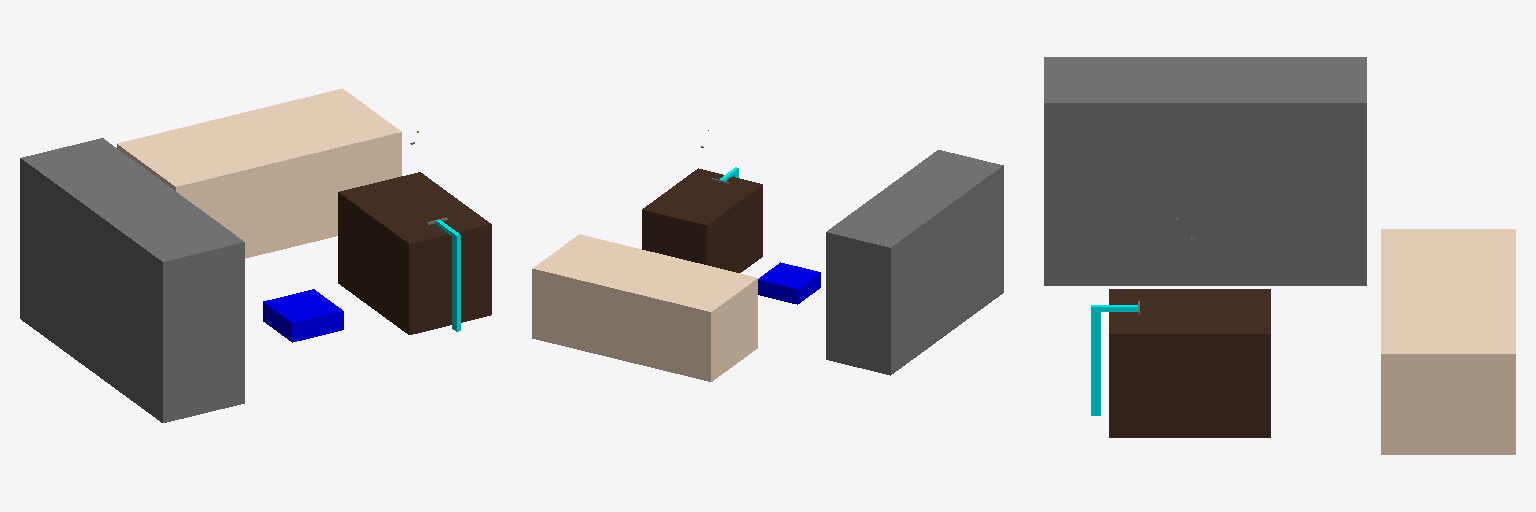
robot.urdf — my_robot_description:
<?xml version="1.0" ?><!-- =================================================================================== --><!-- |    This document was autogenerated by xacro from [local-path]/temp_ws/install/cell_envir/share/cell_envir/config/my_robot_description.urdf.xacro | --><!-- |    EDITING THIS FILE BY HAND IS NOT RECOMMENDED                                 | --><!-- =================================================================================== --><robot name="my_robot_description"><link name="robot_base"><visual><origin rpy="0 0 0" xyz="0 0 0.0"/><geometry><box size="0.5 0.5 0.18"/></geometry><material name="Cyan"><color rgba="0 0.0 1.0 1.0"/></material></visual><collision><origin rpy="0 0 0" xyz="0 0 0"/><geometry><box size="0.5 0.5 0.18"/></geometry></collision><inertial><inertia ixx="0.047066666666666666" ixy="0" ixz="0" iyy="0.047066666666666666" iyz="0" izz="0.08333333333333333"/><mass value="0.002"/></inertial></link><link name="table_soudage"><visual><origin rpy="0 0 0" xyz="0.0 0.0 0.425"/><geometry><box size="0.8 1.2  0.85"/></geometry><material name="metal"><color rgba="0.3 0.21 0.16 1.0"/></material></visual><collision><origin rpy="0 0 0" xyz="0.0 0.0 0.425"/><geometry><box size="0.8 1.2  0.85"/></geometry></collision><inertial><inertia ixx="0.09010416666666665" ixy="0" ixz="0" iyy="0.05677083333333333" iyz="0" izz="0.08666666666666667"/><mass value="0.0005"/></inertial></link><link name="controleur"><inertial><inertia ixx="0.6675" ixy="0" ixz="0" iyy="0.24083333333333334" iyz="0" izz="0.5333333333333333"/><mass value="0.001"/></inertial><visual><origin rpy="0 0 0" xyz="-0.4 0.0 0.75"/><geometry><box size="0.8 2.4 1.5"/></geometry><material name="gray"><color rgba="0.5 0.5 0.5 1.0"/></material></visual><collision><origin rpy="0 0 0" xyz="-0.4 0.0 0.75"/><geometry><box size="0.8 2.4 1.5"/></geometry></collision></link><link name="table"><inertial><inertia ixx="0.14101866666666665" ixy="0" ixz="0" iyy="0.46101866666666674" iyz="0" izz="0.48666666666666675"/><mass value="0.001"/></inertial><visual><origin rpy="0 0 0" xyz="1.1 0.5 0.4115"/><geometry><box size="2.2 1.0 0.823"/></geometry><material name="wood"><color rgba="1 0.9 0.8 1.0"/></material></visual><collision><origin rpy="0 0 0" xyz="1.1 0.5 0.4115"/><geometry><box size="2.2 1.0 0.823"/></geometry></collision></link><link name="arm_1"><visual><origin rpy="0 0 0" xyz="0 0 0"/><geometry><box size="0.04 0.08 0.86"/></geometry><material name="Cyan"><color rgba="0 1.0 1.0 1.0"/></material></visual><collision><origin rpy="0 0 0" xyz="0 0 0"/><geometry><box size="0.04 0.08 0.86"/></geometry></collision><inertial><inertia ixx="0.031083333333333327" ixy="0" ixz="0" iyy="0.030883333333333332" iyz="0" izz="0.0003333333333333333"/><mass value="0.0005"/></inertial></link><link name="arm_2"><visual><origin rpy="1.5708 0 0" xyz="0 0 -0.175"/><geometry><box size="0.04 0.04 0.35"/></geometry><material name="Cyan"><color rgba="0 1.0 1.0 1.0"/></material></visual><collision><origin rpy="1.5708 0 0" xyz="0 0 -0.175"/><geometry><box size="0.04 0.04 0.35"/></geometry></collision><inertial><inertia ixx="0.002068333333333333" ixy="0" ixz="0" iyy="0.002068333333333333" iyz="0" izz="5.333333333333334e-05"/><mass value="0.0002"/></inertial></link><!-- <link name="piece">
    <visual>
      <origin xyz="0.040 0.084 0" rpy="-1.5707896 0 0" />
      <geometry>
        <mesh filename="file:///$(find cell_envir)/urdf/piece_description/Part1V3.stl" scale="0.001 0.001 0.001" />
      </geometry>
      <material name="Cyan">
        <color rgba="0 0.0 1.0 1.0"/>
      </material>
    </visual>
    <inertial>
        <xacro:box_inertia m="0.2" x="0.4" y="0.4" z="0.1"/>
     </inertial>
  </link> --><joint name="joint_base_world" type="fixed"><origin rpy="0.0 0.0 0.0" xyz="0.0 0.0 0.09"/><parent link="world"/><child link="robot_base"/></joint><joint name="joint_controleur" type="fixed"><origin rpy="0.0 0.0 0.0" xyz="-1.2 0.1 0.0"/><parent link="world"/><child link="controleur"/></joint><joint name="joint_table" type="fixed"><origin rpy="0.0 0.0 0.0" xyz="-0.430 1.4 0"/><parent link="world"/><child link="table"/></joint><joint name="joint_table_soudage" type="fixed"><origin rpy="0.0 0.0 0.0" xyz="1.075718 -0.017824 0.0"/><parent link="world"/><child link="table_soudage"/></joint><joint name="joint_arm1" type="fixed"><origin rpy="0.0 0.0 0.0" xyz="1.075718 -0.717824 0.43"/><parent link="world"/><child link="arm_1"/></joint><joint name="joint_arm1_arm2" type="fixed"><origin rpy="0.0 0.0 0.0" xyz="0.0 0.135 0.62"/><parent link="arm_1"/><child link="arm_2"/></joint><!-- <joint name="joint_piece_world" type="fixed">
      <origin xyz="1.075718 0.25 0.86" rpy="0.0 0.0 0.0"/>
      <parent link="world"/>
      <child link="piece"/>
    </joint> --><material name="Ensenso/Blue"><color rgba="0.1 0.1 1.0 1.0"/></material><material name="Ensenso/Black"><color rgba="0.0 0.0 0.0 1.0"/></material><!-- Define the links --><link name="custom_gripper_base"><visual><geometry><box size="0.2 0.02 0.02"/></geometry><origin rpy="0 0 0" xyz="0 0 0"/><material name="grey"><color rgba="0.5 0.5 0.5 1"/></material></visual><collision><geometry><box size="0.2 0.02 0.02"/></geometry><origin rpy="0 0 0" xyz="0 0 0"/></collision><inertial><inertia ixx="1.3333333333333335e-05" ixy="0" ixz="0" iyy="0.0006733333333333335" iyz="0" izz="0.0006733333333333335"/><mass value="0.2"/></inertial></link><!-- <xacro:macro name="prismatic_joint" params="name parent child x_pos y_pos rotation lower_lim upper_lim">
    <joint name="${name}" type="prismatic">
      <parent link="${parent}"/>
      <child link="${child}"/>
      <origin rpy="0 0 ${rotation}" xyz="${x_pos} ${y_pos} 0"/>
      <axis xyz="0 1 0"/>
      <limit lower="${lower_lim}" upper="${upper_lim}" effort="100" velocity="0.1"/>
    </joint>
  </xacro:macro> --><!--
  <xacro:finger name="left_finger" x_pos="-0.05" size_x="0.1" size_y="0.02" size_z="0.02"/>
  <xacro:finger name="right_finger" x_pos="0.05" size_x="0.1" size_y="0.02" size_z="0.02"/>

  <xacro:prismatic_joint name="left_finger_joint" parent="custom_gripper_base" child="left_finger" rotation="-1.570796" x_pos="-0.1" y_pos="0.01" lower_lim="0.01" upper_lim="0.09"/>
  <xacro:prismatic_joint name="right_finger_joint" parent="custom_gripper_base" child="right_finger" rotation="1.570796" x_pos="0.1" y_pos="0.01" lower_lim="0.01" upper_lim="0.09"/>
--><joint name="camera_optical_joint" type="fixed"><parent link="link_6_t"/><child link="camera_link_optical"/><origin rpy="1.5708 3.14159 1.5708" xyz="0.26 -0.11 0.155"/></joint><joint name="camera_joint" type="fixed"><parent link="camera_link_optical"/><child link="camera_link"/><origin rpy="0 -1.5708 1.5708" xyz="0.0 0.0 0.0"/></joint><link name="camera_link_optical"/><link name="camera_link"><origin rpy="0 0 0" xyz="0 0 0"/><visual><geometry><box size="0.01 0.01 0.01"/></geometry><material name="red"/></visual><collision><origin rpy="0 0 0" xyz="0 0 0"/><geometry><box size="0.01 0.01 0.01"/></geometry></collision><inertial><inertia ixx="3.333333333333334e-07" ixy="0" ixz="0" iyy="3.333333333333334e-07" iyz="0" izz="3.333333333333334e-07"/><mass value="2e-05"/></inertial></link><gazebo reference="camera_link"><material>Gazebo/Red</material><sensor name="my_depth_camera" type="depth"><always_on>true</always_on><visualize>false</visualize><update_rate>5</update_rate><camera name="camera"><horizontal_fov>1.02974</horizontal_fov><image><width>640</width><height>480</height><format>R8G8B8</format></image><clip><near>0.02</near><far>1</far></clip><noise><type>gaussian</type><!-- Noise is sampled independently per pixel on each frame.
                            That pixel's noise value is added to each of its color
                            channels, which at that point lie in the range [0,1]. --><mean>0.0</mean><stddev>0.007</stddev></noise></camera><plugin filename="libgazebo_ros_camera.so" name="depth_camera_controller"><camera_name>my_depth_camera</camera_name><frame_name> camera_link_optical</frame_name><hack_baseline>0</hack_baseline><min_depth>0.01</min_depth><min_depth>0.5</min_depth></plugin></sensor></gazebo><!-- link list --><link name="base_link"><visual><geometry><mesh filename="file:///[local-path]/cogniman_ws/install/cell_envir/share/cell_envir/urdf/motoman_mh12_support/meshes/visual/mh12_base_link.stl"/></geometry><material name=""><color rgba="0.12941176470588237 0.14901960784313725 0.7490196078431373 1.0"/></material></visual><collision><geometry><mesh filename="file:///[local-path]/cogniman_ws/install/cell_envir/share/cell_envir/urdf/motoman_mh12_support/meshes/collision/mh12_base_link.stl"/></geometry></collision><inertial><inertia ixx="0.6499999999999999" ixy="0" ixz="0" iyy="0.6499999999999999" iyz="0" izz="1.2249999999999999"/><mass value="0.005"/></inertial></link><link name="link_1_s"><visual><geometry><mesh filename="file:///[local-path]/cogniman_ws/install/cell_envir/share/cell_envir/urdf/motoman_mh12_support/meshes/visual/mh12_link_1_s.stl"/></geometry><material name=""><color rgba="0.12941176470588237 0.14901960784313725 0.7490196078431373 1.0"/></material></visual><collision><geometry><mesh filename="file:///[local-path]/cogniman_ws/install/cell_envir/share/cell_envir/urdf/motoman_mh12_support/meshes/collision/mh12_link_1_s.stl"/></geometry></collision><inertial><inertia ixx="0.4624999999999999" ixy="0" ixz="0" iyy="0.4624999999999999" iyz="0" izz="0.625"/><mass value="0.005"/></inertial></link><link name="link_2_l"><visual><geometry><mesh filename="file:///[local-path]/cogniman_ws/install/cell_envir/share/cell_envir/urdf/motoman_mh12_support/meshes/visual/mh12_link_2_l.stl"/></geometry><material name=""><color rgba="0.12941176470588237 0.14901960784313725 0.7490196078431373 1.0"/></material></visual><collision><geometry><mesh filename="file:///[local-path]/cogniman_ws/install/cell_envir/share/cell_envir/urdf/motoman_mh12_support/meshes/collision/mh12_link_2_l.stl"/></geometry></collision><inertial><inertia ixx="0.7041666666666669" ixy="0" ixz="0" iyy="0.7041666666666669" iyz="0" izz="0.4"/><mass value="0.005"/></inertial></link><link name="link_3_u"><visual><geometry><mesh filename="file:///[local-path]/cogniman_ws/install/cell_envir/share/cell_envir/urdf/motoman_mh12_support/meshes/visual/mh12_link_3_u.stl"/></geometry><material name=""><color rgba="0.12941176470588237 0.14901960784313725 0.7490196078431373 1.0"/></material></visual><collision><geometry><mesh filename="file:///[local-path]/cogniman_ws/install/cell_envir/share/cell_envir/urdf/motoman_mh12_support/meshes/collision/mh12_link_3_u.stl"/></geometry></collision><inertial><inertia ixx="0.5541666666666666" ixy="0" ixz="0" iyy="0.5541666666666666" iyz="0" izz="0.8999999999999999"/><mass value="0.005"/></inertial></link><link name="link_4_r"><visual><geometry><mesh filename="file:///[local-path]/cogniman_ws/install/cell_envir/share/cell_envir/urdf/motoman_mh12_support/meshes/visual/mh12_link_4_r.stl"/></geometry><material name=""><color rgba="0.12941176470588237 0.14901960784313725 0.7490196078431373 1.0"/></material></visual><collision><geometry><mesh filename="file:///[local-path]/cogniman_ws/install/cell_envir/share/cell_envir/urdf/motoman_mh12_support/meshes/collision/mh12_link_4_r.stl"/></geometry></collision><inertial><inertia ixx="0.16000000000000003" ixy="0" ixz="0" iyy="0.16000000000000003" iyz="0" izz="0.24000000000000005"/><mass value="0.003"/></inertial></link><link name="link_5_b"><visual><geometry><mesh filename="file:///[local-path]/cogniman_ws/install/cell_envir/share/cell_envir/urdf/motoman_mh12_support/meshes/visual/mh12_link_5_b.stl"/></geometry><material name=""><color rgba="0.12941176470588237 0.14901960784313725 0.7490196078431373 1.0"/></material></visual><collision><geometry><mesh filename="file:///[local-path]/cogniman_ws/install/cell_envir/share/cell_envir/urdf/motoman_mh12_support/meshes/collision/mh12_link_5_b.stl"/></geometry></collision><inertial><inertia ixx="0.05166666666666666" ixy="0" ixz="0" iyy="0.05166666666666666" iyz="0" izz="0.09"/><mass value="0.002"/></inertial></link><link name="link_6_t"><visual><geometry><mesh filename="file:///[local-path]/cogniman_ws/install/cell_envir/share/cell_envir/urdf/motoman_mh12_support/meshes/visual/mh12_link_6_t.stl"/></geometry><material name=""><color rgba="0.12941176470588237 0.14901960784313725 0.7490196078431373 1.0"/></material></visual><collision><geometry><mesh filename="file:///[local-path]/cogniman_ws/install/cell_envir/share/cell_envir/urdf/motoman_mh12_support/meshes/collision/mh12_link_6_t.stl"/></geometry></collision><inertial><inertia ixx="0.06499999999999999" ixy="0" ixz="0" iyy="0.06499999999999999" iyz="0" izz="0.12249999999999998"/><mass value="0.0005"/></inertial></link><link name="tool0"/><!-- end of link list --><!-- joint list --><joint name="joint_1_s" type="revolute"><parent link="base_link"/><child link="link_1_s"/><origin rpy="0 0 0" xyz="0 0 0.450"/><axis xyz="0 0 1"/><limit effort="648.27" lower="-2.9670" upper="2.9670" velocity="3.8397"/></joint><joint name="joint_2_l" type="revolute"><parent link="link_1_s"/><child link="link_2_l"/><origin rpy="0 0 0" xyz="0.155 0 0"/><axis xyz="0 1 0"/><limit effort="874.65" lower="-1.5708" upper="2.7052" velocity="3.4906"/></joint><joint name="joint_3_u" type="revolute"><parent link="link_2_l"/><child link="link_3_u"/><origin rpy="0 0 0" xyz="0 0 0.614"/><axis xyz="0 -1 0"/><limit effort="257.25" lower="-1.4835" upper="2.6179" velocity="3.8397"/></joint><joint name="joint_4_r" type="revolute"><parent link="link_3_u"/><child link="link_4_r"/><origin rpy="0 0 0" xyz="0.640 0 0.200"/><axis xyz="-1 0 0"/><limit effort="74.97" lower="-3.1415" upper="3.1415" velocity="7.1558"/></joint><joint name="joint_5_b" type="revolute"><parent link="link_4_r"/><child link="link_5_b"/><origin rpy="0 0 0" xyz="0 0 0"/><axis xyz="0 -1 0"/><limit effort="44.69" lower="-2.3562" upper="2.3562" velocity="7.1558"/></joint><joint name="joint_6_t" type="revolute"><parent link="link_5_b"/><child link="link_6_t"/><origin rpy="0 0 0" xyz="0 0 0"/><axis xyz="-1 0 0"/><limit effort="14.80" lower="-6.2832" upper="6.2832" velocity="10.6465"/></joint><joint name="joint_6_t-tool0" type="fixed"><origin rpy="3.1415926 -1.570796 0" xyz="0.100 0 0"/><parent link="link_6_t"/><child link="tool0"/></joint><!-- end of joint list --><!-- ROS base_link to Robot Manufacturer World Coordinates transform 
        <link name="${prefix}base" />
        <joint name="${prefix}base_link-base" type="fixed">
            <origin xyz="0 0 0.450" rpy="0 0 0"/>
            <parent link="${prefix}base_link"/>
            <child link="${prefix}base"/>
        </joint>
        --><link name="my_camera"><visual><origin rpy="0 0 0" xyz="0 0 0"/><geometry><mesh filename="file:///[local-path]/cogniman_ws/install/cell_envir/share/cell_envir/urdf/ensenso_description/stl_meshes/X3x-5CP-200.stl"/></geometry><material name="Ensenso/Blue"/></visual><collision><origin rpy="0.0 0.0 0.0" xyz="0.0 0.0 0.058"/><geometry><!-- <box size="${margin+0.24350} ${margin+0.066} ${margin+0.08+0.05}"/> --><box size="0.15 0.096 0.16"/></geometry></collision><inertial><inertia ixx="0.0041666666666666675" ixy="0" ixz="0" iyy="0.010833333333333334" iyz="0" izz="0.008333333333333333"/><mass value="0.001"/></inertial></link><!-- Left lens --><joint name="my_camera_left_lens_joint" type="fixed"><parent link="my_camera"/><child link="my_camera_left_lens_frame"/><origin rpy="0 0 0" xyz="-0.113 0.0 0.063"/></joint><link name="my_camera_left_lens_frame"/><link name="world">
  </link><link name="gripper"><visual><origin rpy="0 0 0" xyz="0 0 0"/><geometry><mesh filename="file:///[local-path]/cogniman_ws/install/cell_envir/share/cell_envir/urdf/gripper_description/gripper_bi.stl" scale="0.001 0.001 0.001"/></geometry><material name="Cyan"><color rgba="0 0.0 1.0 1.0"/></material></visual><collision name="custom_gripper_collision"><origin rpy="0 0 0" xyz="0 0 0"/><geometry><box size="0.05 0.15 0.05"/></geometry></collision><inertial><inertia ixx="0.0010416666666666667" ixy="0" ixz="0" iyy="0.00020833333333333337" iyz="0" izz="0.0010416666666666667"/><mass value="0.0005"/></inertial></link><link name="support"><visual><origin rpy="0 0 0" xyz="0 0 0"/><geometry><mesh filename="file:///[local-path]/cogniman_ws/install/cell_envir/share/cell_envir/urdf/gripper_description/support2.stl" scale="0.005 0.005 0.005"/></geometry><material name="Cyan"><color rgba="0 0.0 1.0 1.0"/></material></visual><collision><origin rpy="0 0 0" xyz="0 0 0"/><geometry><box size="0.05 0.05 0.15"/></geometry></collision><inertial><inertia ixx="0.0010416666666666667" ixy="0" ixz="0" iyy="0.0010416666666666667" iyz="0" izz="0.00020833333333333337"/><mass value="0.0005"/></inertial></link><joint name="joint_robot_base_link" type="fixed"><origin rpy="0.0 0.0 0.0" xyz="0.0 0.0 0.09"/><parent link="robot_base"/><child link="base_link"/></joint><joint name="joint_tool0_camera" type="fixed"><origin rpy="0 0.0 -1.570789632" xyz="0.15213 0.0 0.01"/><parent link="tool0"/><child link="my_camera"/></joint><joint name="joint_tool0_support" type="fixed"><origin rpy="0 0.0 0" xyz="0.00 0.00 0.00"/><parent link="tool0"/><child link="support"/></joint><joint name="joint_support_gripper" type="fixed"><origin rpy="1.5708 0.0 1.5708" xyz="0.0 0.0 0.07"/><parent link="support"/><child link="gripper"/></joint><!-- TCP frames --><link name="gripper_tcp">
  </link><link name="camera_tcp">
  </link><link name="pince_tcp">
  </link><joint name="joint_gripper_tcp_gripper" type="fixed"><origin rpy="0 0 0" xyz="0.26 0.0 0"/><parent link="link_6_t"/><child link="gripper_tcp"/></joint><joint name="joint_camera_tcp_camera" type="fixed"><origin rpy="0 -1.5707963267948966 0" xyz="0 0 0.05"/><parent link="my_camera_left_lens_frame"/><child link="camera_tcp"/></joint><joint name="joint_custom_gripper_tcp_pince" type="fixed"><origin rpy="0 0 0" xyz="0 0.01 0"/><parent link="custom_gripper_base"/><child link="pince_tcp"/></joint><joint name="joint_arm_custom_gripper" type="fixed"><origin rpy="0 0 0" xyz="0.0 0.185 -0.17"/><parent link="arm_2"/><child link="custom_gripper_base"/></joint><link name="main_left_finger"><visual><geometry><box size="0.04 0.003 0.008"/></geometry><origin rpy="0 0 0" xyz="-0.01 0 0"/><material name="grey"><color rgba="0.5 0.5 0.5 1"/></material></visual><collision name="main_left_finger_collision"><geometry><box size="0.04 0.003 0.008"/></geometry><origin rpy="0 0 0" xyz="-0.01 0 0"/></collision><inertial><inertia ixx="6.6666666666666675e-06" ixy="0" ixz="0" iyy="8.666666666666668e-05" iyz="0" izz="8.666666666666668e-05"/><mass value="0.0001"/></inertial></link><link name="main_right_finger"><visual><geometry><box size="0.04 0.003 0.008"/></geometry><origin rpy="0 0 0" xyz="0.01 0 0"/><material name="grey"><color rgba="0.5 0.5 0.5 1"/></material></visual><collision name="main_right_finger_collision"><geometry><box size="0.04 0.003 0.008"/></geometry><origin rpy="0 0 0" xyz="0.01 0 0"/></collision><inertial><inertia ixx="6.6666666666666675e-06" ixy="0" ixz="0" iyy="8.666666666666668e-05" iyz="0" izz="8.666666666666668e-05"/><mass value="0.0001"/></inertial></link><joint name="main_left_finger_joint" type="prismatic"><parent link="gripper"/><child link="main_left_finger"/><origin rpy="0 0 -1.570796" xyz="0.007 0.092 0"/><axis xyz="0 1 0"/><limit effort="100" lower="0.0" upper="0.11" velocity="0.1"/></joint><joint name="main_right_finger_joint" type="prismatic"><parent link="gripper"/><child link="main_right_finger"/><origin rpy="0 0 1.570796" xyz="-0.007 0.092 0"/><axis xyz="0 1 0"/><limit effort="100" lower="0.0" upper="0.11" velocity="0.1"/><mimic joint="main_left_finger_joint" multiplier="1" offset="0"/></joint><ros2_control name="FakeSystem" type="system"><hardware><!-- By default, set up controllers for simulation. This won't work on real hardware --><plugin>mock_components/GenericSystem</plugin></hardware><joint name="joint_1_s"><command_interface name="position"/><state_interface name="position"><param name="initial_value">0</param></state_interface><state_interface name="velocity"/></joint><joint name="joint_2_l"><command_interface name="position"/><state_interface name="position"><param name="initial_value">0</param></state_interface><state_interface name="velocity"/></joint><joint name="joint_3_u"><command_interface name="position"/><state_interface name="position"><param name="initial_value">0</param></state_interface><state_interface name="velocity"/></joint><joint name="joint_4_r"><command_interface name="position"/><state_interface name="position"><param name="initial_value">0</param></state_interface><state_interface name="velocity"/></joint><joint name="joint_5_b"><command_interface name="position"/><state_interface name="position"><param name="initial_value">0</param></state_interface><state_interface name="velocity"/></joint><joint name="joint_6_t"><command_interface name="position"/><state_interface name="position"><param name="initial_value">0</param></state_interface><state_interface name="velocity"/></joint><joint name="main_left_finger_joint"><command_interface name="position"/><state_interface name="position"><param name="initial_value">0</param></state_interface><state_interface name="velocity"/></joint><!-- <joint name="main_right_finger_joint">
                <command_interface name="position"/>
                <state_interface name="position">
                  <param name="initial_value">${initial_positions['main_right_finger_joint']}</param>
                </state_interface>
                <state_interface name="velocity"/>
            </joint> --></ros2_control></robot>

--- Render facts (derived) ---
The picture shows the robot from 3 angles, left to right: view 1: azimuth 30°, elevation 25°; view 2: azimuth 150°, elevation 25°; view 3: azimuth 270°, elevation 25°; orthographic projection.
Model my_robot_description with 27 links and 26 joints (6 revolute, 2 prismatic, 18 fixed), rooted at world, posed all joints at 0.
Links seen in each view (by area): view 1: controleur, table, table_soudage, robot_base, arm_1; view 2: controleur, table, table_soudage, robot_base; view 3: controleur, table, table_soudage, arm_1.
Link boxes in pixels (box(x1,y1,x2,y2)): controleur: box(20, 138, 244, 422); table: box(117, 88, 401, 258); table_soudage: box(338, 172, 491, 334); robot_base: box(263, 289, 343, 342); arm_1: box(452, 237, 460, 331); controleur: box(826, 150, 1003, 375); table: box(532, 234, 757, 381); table_soudage: box(642, 168, 762, 272); robot_base: box(758, 262, 820, 304); controleur: box(1044, 57, 1366, 285); table: box(1381, 229, 1515, 454); table_soudage: box(1109, 289, 1270, 437); arm_1: box(1091, 311, 1100, 415).
Size in the robot's own frame: 3.77 by 3.5 by 1.6 metres.
Geometry: only primitive shapes (box / cylinder / sphere) drawn; not drawn: 10 mesh visuals (reference in a form the renderer does not follow).
